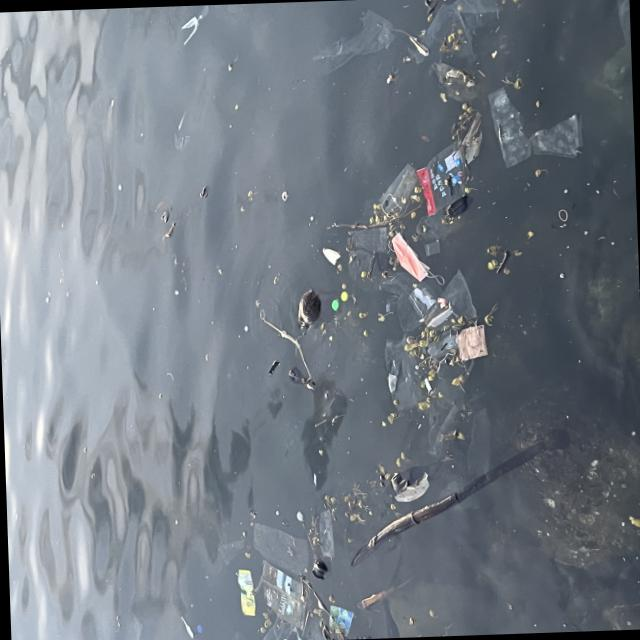foam: (322, 248, 341, 265)
plastic bag: (252, 566, 308, 628), (232, 571, 256, 616)
